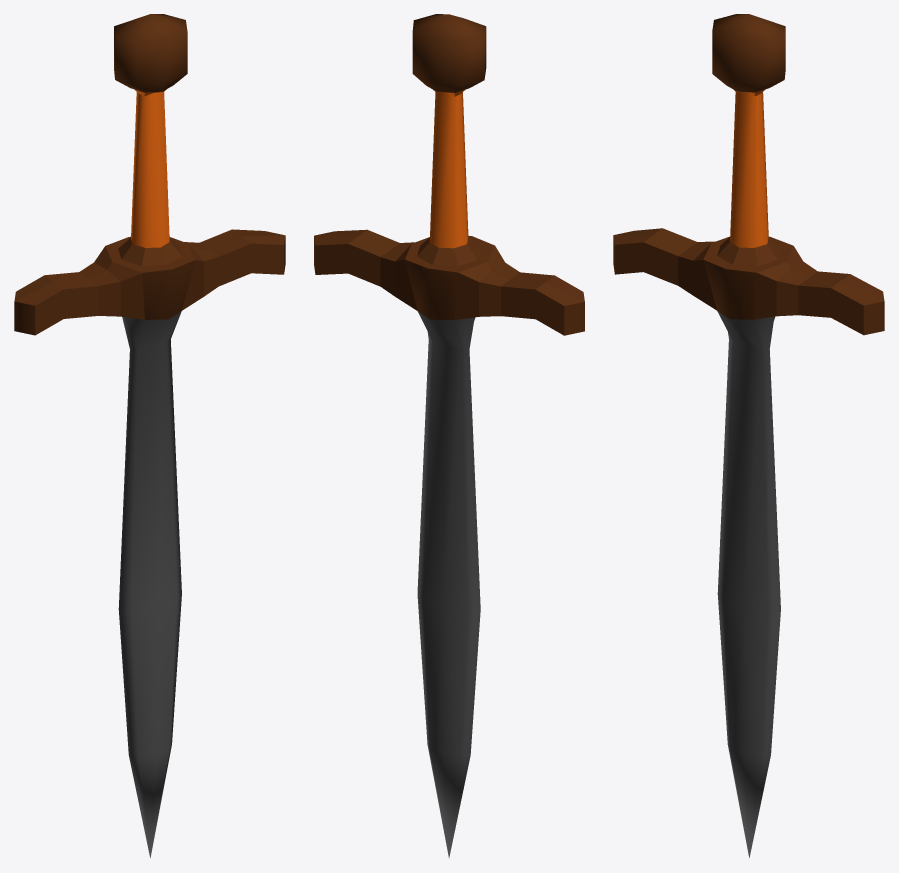
Rendered from Sword 001.FBX.
The picture shows the model from 3 angles, left to right: view 1: azimuth 30°, elevation 25°; view 2: azimuth 150°, elevation 25°; view 3: azimuth 330°, elevation 25°; orthographic projection.
Visible parts, largest first — view 1: Sword; view 2: Sword; view 3: Sword.
Boxes of the visible parts, bbox=[...] form: Sword: bbox=[14, 14, 285, 857]; Sword: bbox=[314, 14, 584, 858]; Sword: bbox=[613, 14, 884, 857].
Size of the model in its own units: 0.4875 by 1.45 by 0.1377.
